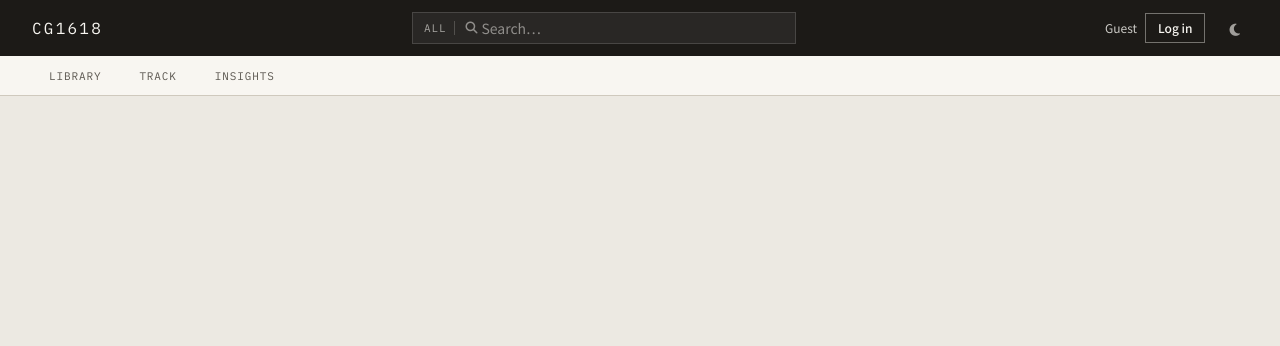
Test case: Nav panels › groups Collection and Franchise away from ACG and Reality
What coordinates should you click on to do the following:
click the button "Library"
I would click on:
 (75, 76)
Its box is [32, 56, 118, 96].
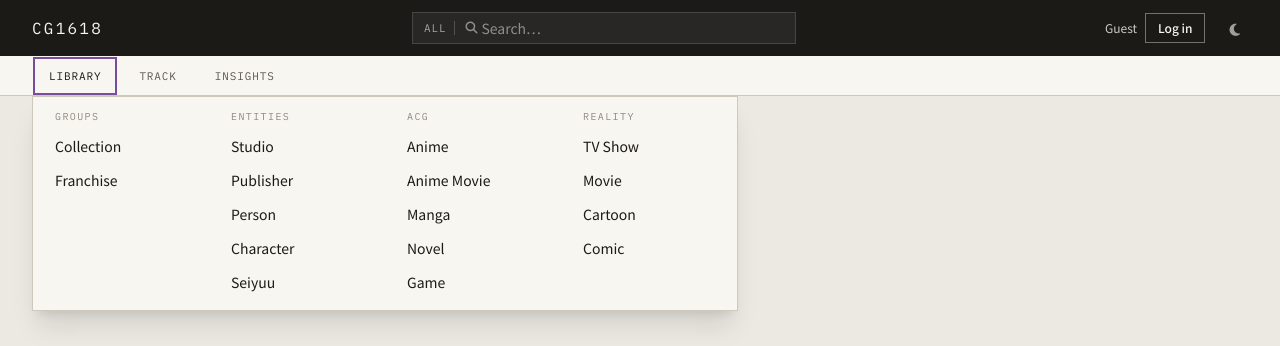
expect the text "Groups" is shown: met, box [55, 110, 99, 123]
expect the text "ACG" is shown: met, box [407, 110, 429, 123]
expect the text "Reality" is shown: met, box [583, 110, 635, 123]
